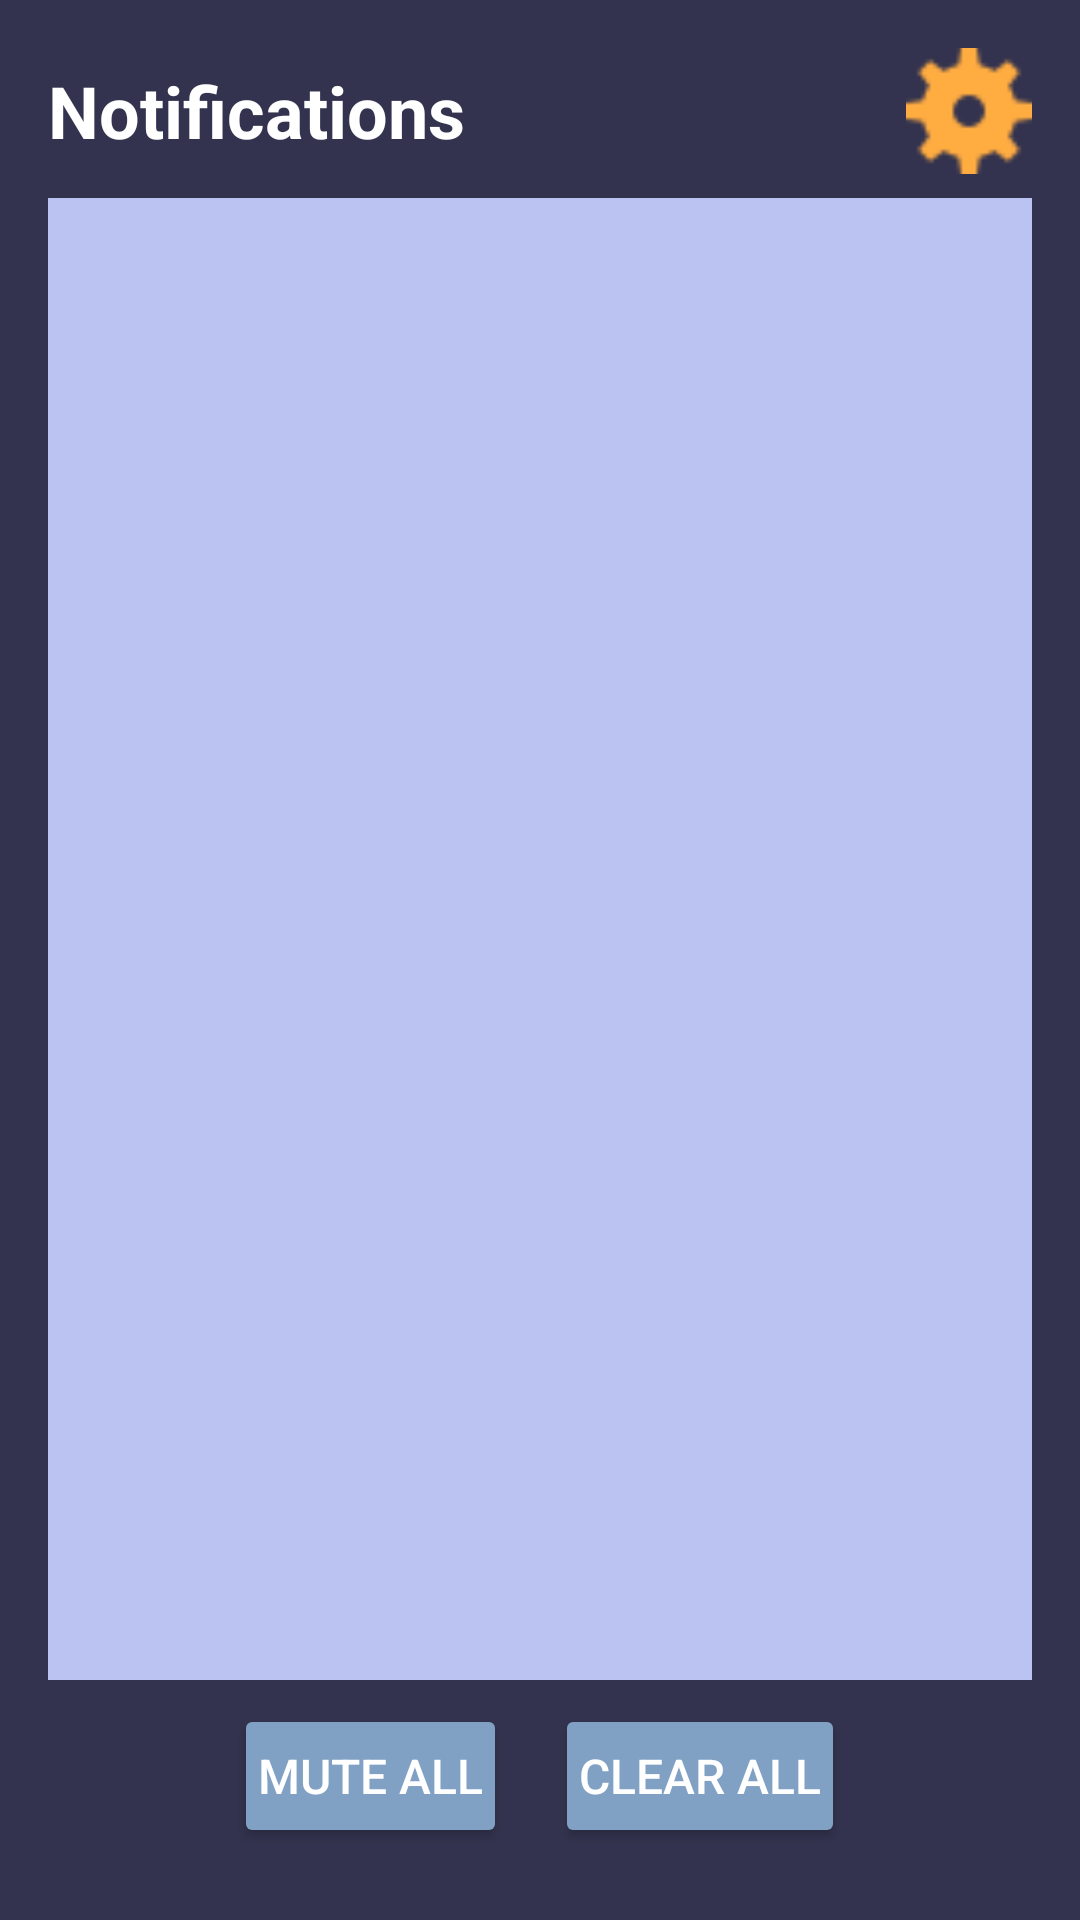

Icons on this 1080 x 1920 Android screen, each with its box as (x1, y1, x2, y2):
Settings: (906, 48, 1032, 174)
